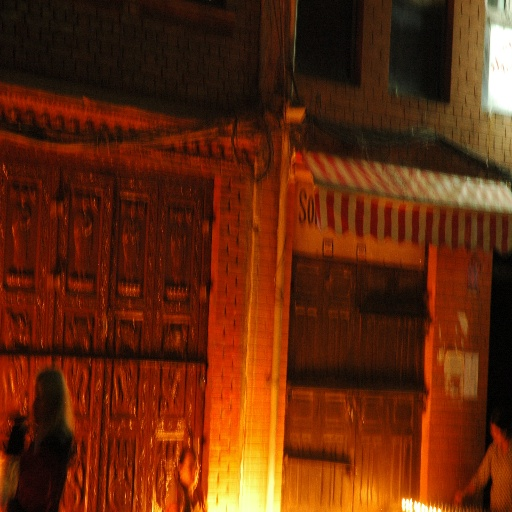hand: (453, 490, 461, 503)
